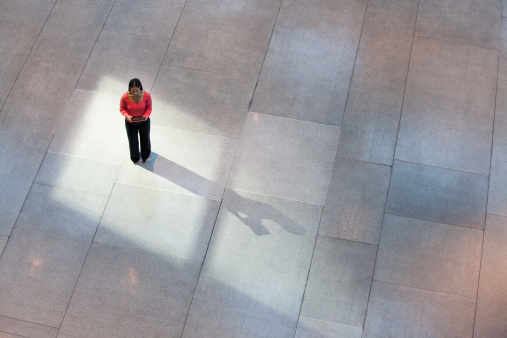em pe: (119, 77, 155, 162)
